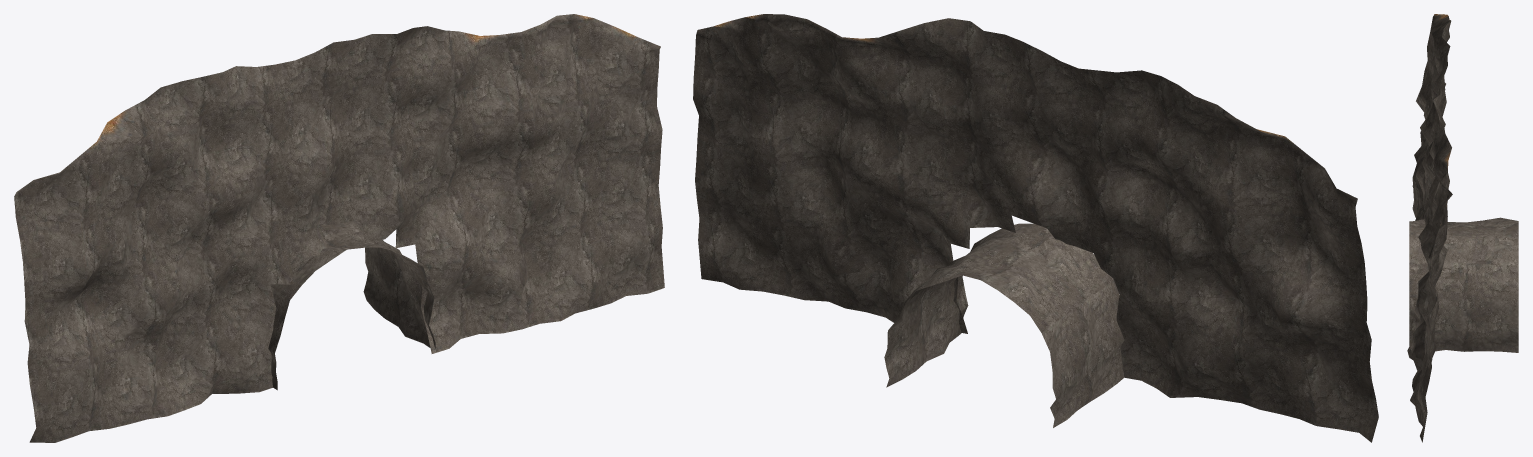
The model's file is rock_tunnel_portal.glb.
3 renders of one model, left to right at view 1: azimuth 30°, elevation 25°; view 2: azimuth 150°, elevation 25°; view 3: azimuth 270°, elevation 25°, orthographic. The views are drawn at different scales.
Visible parts, largest first — view 1: rock_tunnel_portal; view 2: rock_tunnel_portal; view 3: rock_tunnel_portal.
Part boxes in pixels (x1,y1,x2,y2): rock_tunnel_portal: (14,14,664,442); rock_tunnel_portal: (693,14,1378,442); rock_tunnel_portal: (1407,14,1518,442).
Bounding box in the file's own units: 34 × 16 × 6.63.
1 material, 1 textured.
